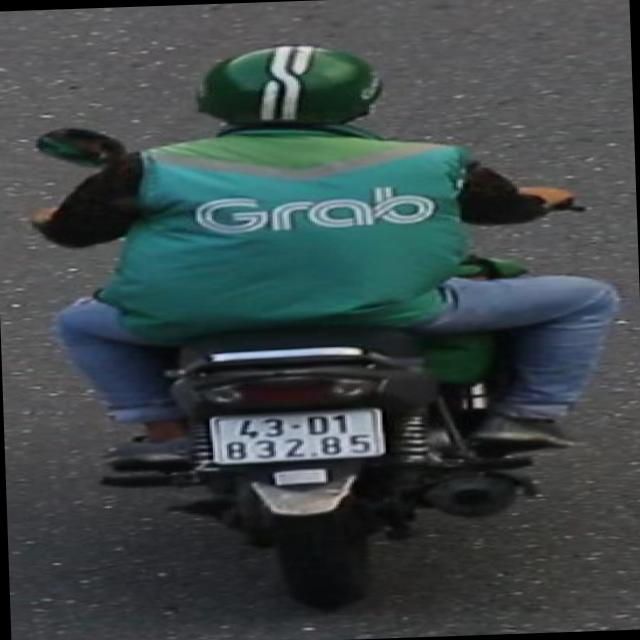LP: (202, 400, 398, 470)
helmet: (185, 36, 390, 150)
